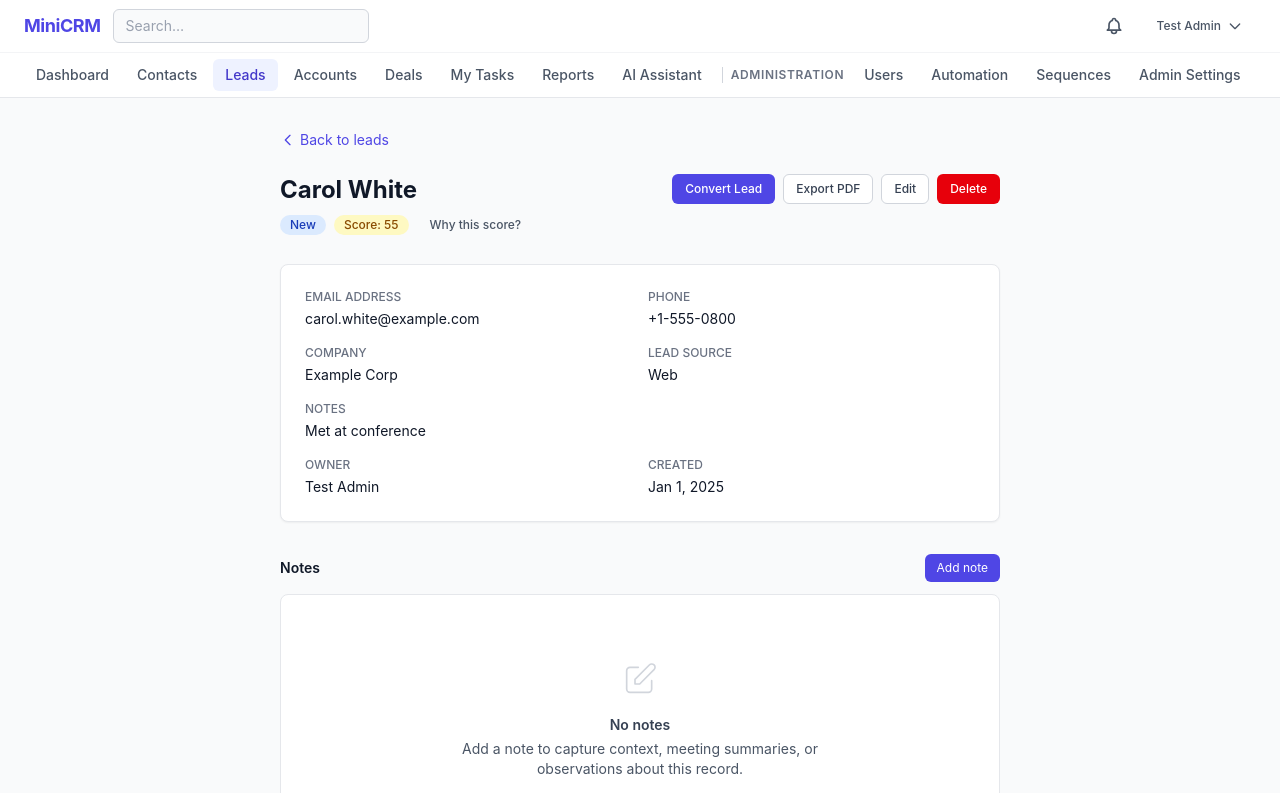
LeadDetailPage › Export PDF button › shows an error message when the export fails
The width and height of the screenshot is (1280, 793).
What coordinates should you click on to do the following:
click the button with test id "lead-detail-export-pdf-button"
I would click on:
 (828, 189)
Its box is [783,174,874,204].
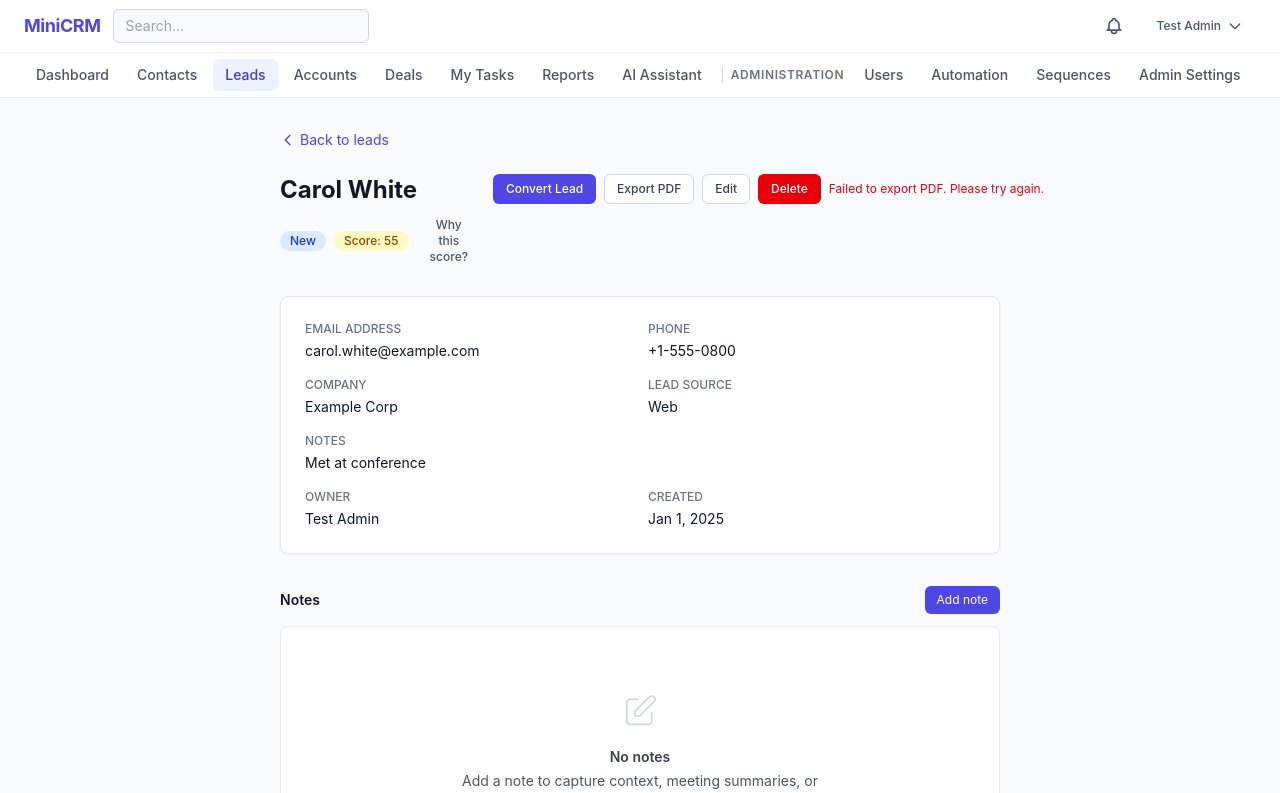
expect the message "Failed to export PDF. Please try again." is shown: met, box [829,181,1044,197]
